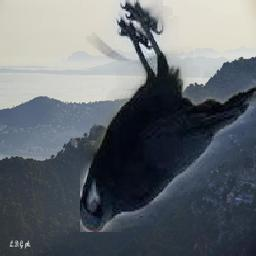Crow: (80, 0, 256, 232)
